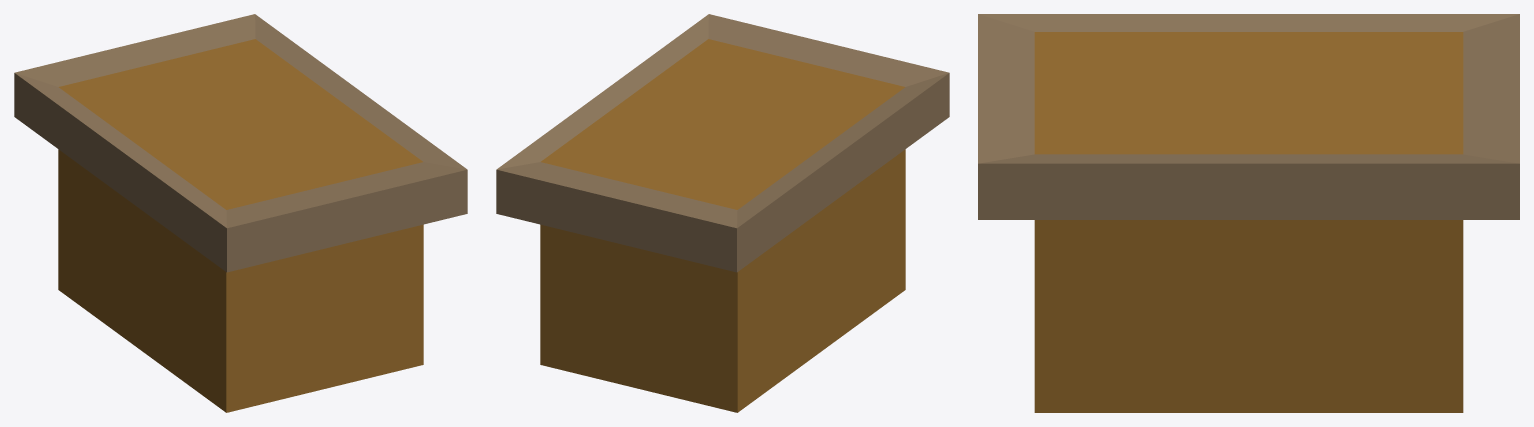
File: night table.fbx
3 views of the same model, side by side, from view 1: azimuth 30°, elevation 25°; view 2: azimuth 150°, elevation 25°; view 3: azimuth 270°, elevation 25° (orthographic). The views are drawn at different scales.
Parts seen in each view (by area): view 1: night table; view 2: night table; view 3: night table.
Boxes of the visible parts, bbox=[...] form: night table: bbox=[14, 14, 467, 412]; night table: bbox=[496, 14, 949, 412]; night table: bbox=[978, 14, 1519, 412].
Bounding box in the file's own units: 2.44 × 2 × 3.74.
